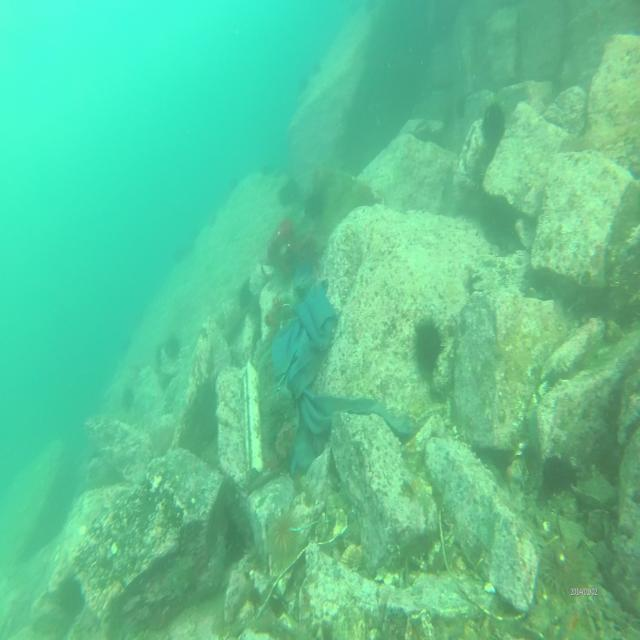echinus: (542, 537, 591, 598), (412, 312, 446, 377), (268, 508, 298, 564), (479, 96, 507, 151), (280, 182, 298, 207), (164, 332, 179, 362)
